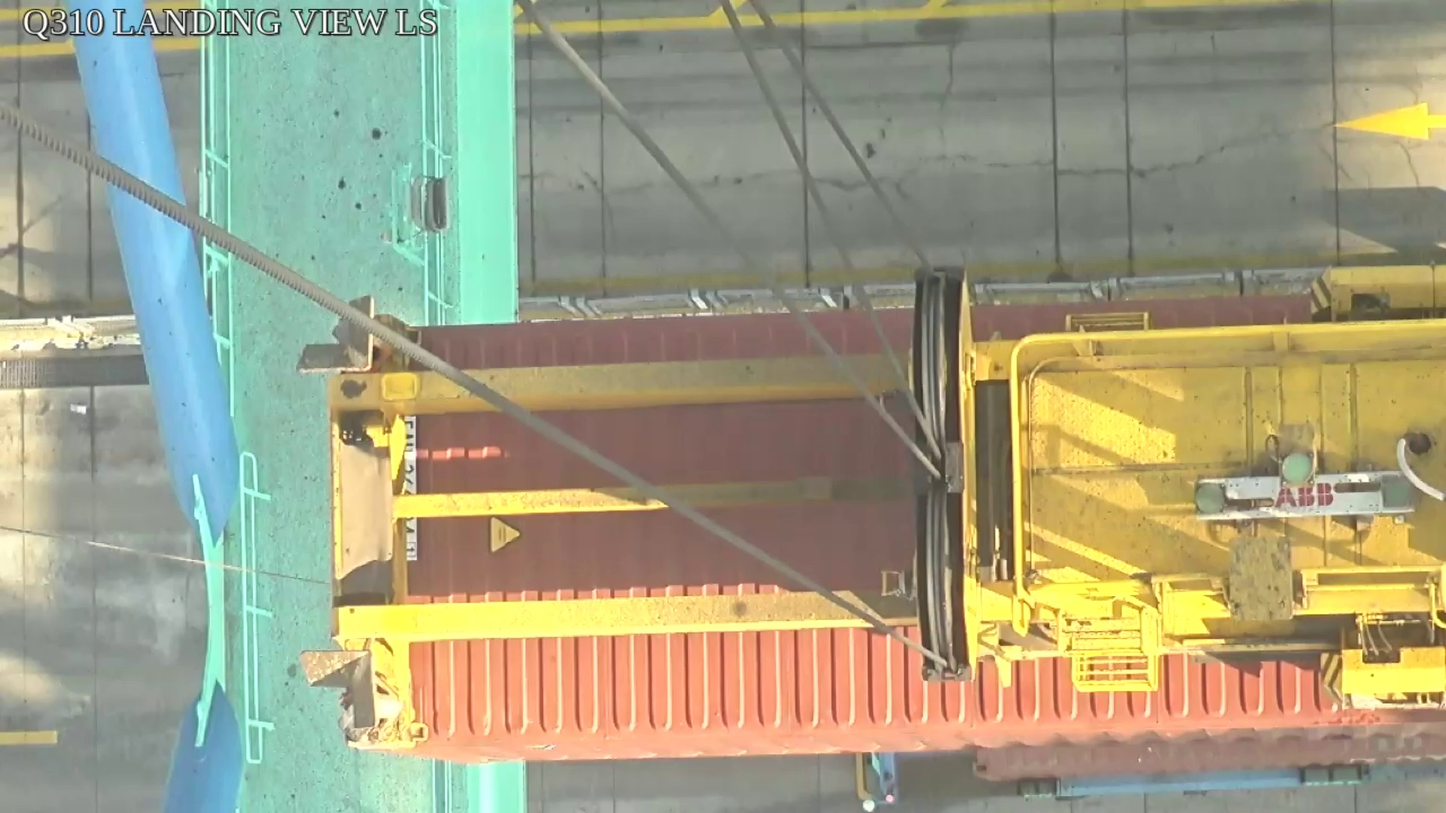aa: (908, 267, 984, 679)
